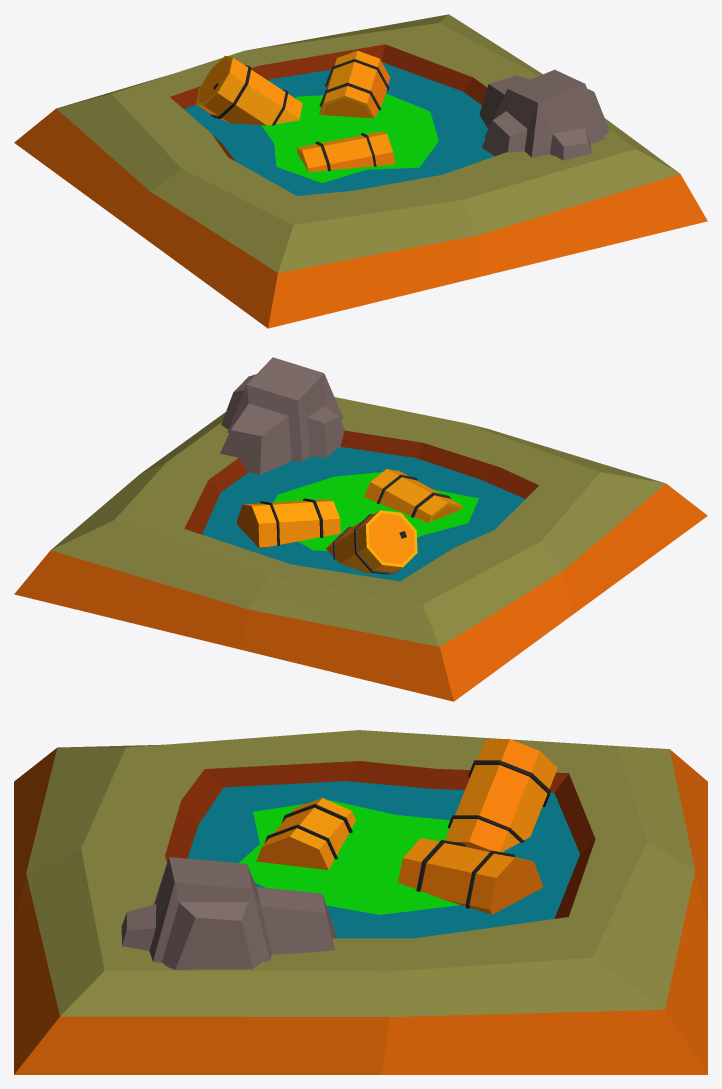
The model's file is LakeSwamp.fbx.
3 views of the same model, one above another, from view 1: azimuth 30°, elevation 25°; view 2: azimuth 150°, elevation 25°; view 3: azimuth 270°, elevation 25° (orthographic). The views are drawn at different scales.
Parts seen in each view (by area): view 1: SA_Env_Pond_03; view 2: SA_Env_Pond_03; view 3: SA_Env_Pond_03.
Boxes of the visible parts, left/top/right/bottom form: SA_Env_Pond_03: left=14, top=14, right=707, bottom=328; SA_Env_Pond_03: left=14, top=357, right=707, bottom=701; SA_Env_Pond_03: left=14, top=730, right=707, bottom=1074.
Size of the model in its own units: 3.31 by 0.7901 by 3.31.
